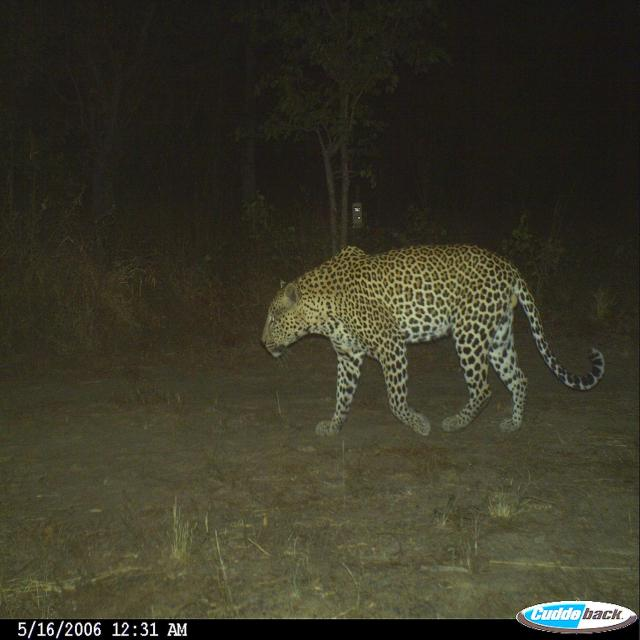Leopard: (258, 235, 616, 447)
